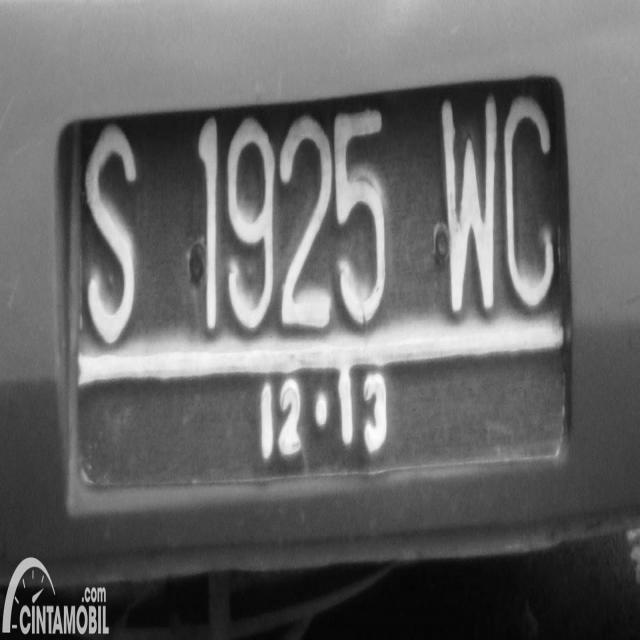1: (183, 110, 227, 348)
2: (276, 110, 332, 340)
5: (330, 100, 390, 341)
9: (226, 112, 276, 348)
C: (501, 94, 556, 316)
S: (65, 113, 148, 348)
W: (428, 90, 502, 316)
